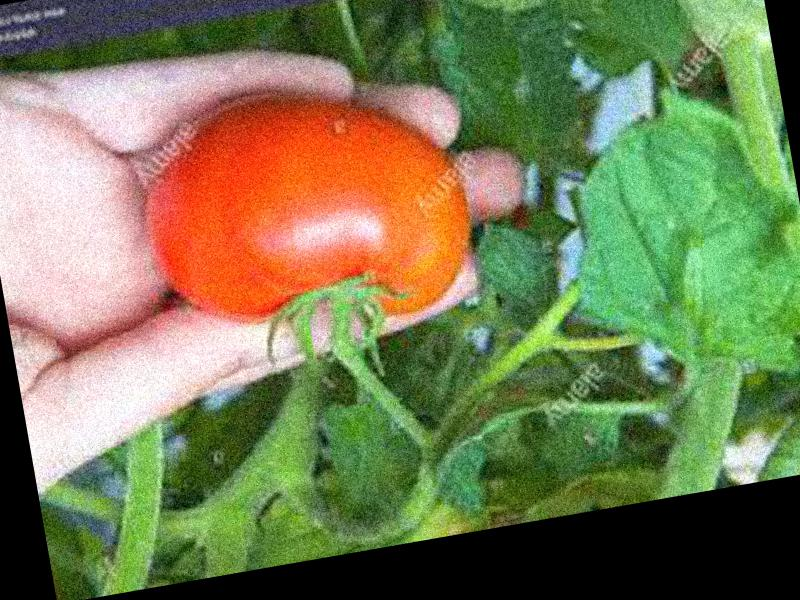Tomato: (127, 71, 483, 355)
